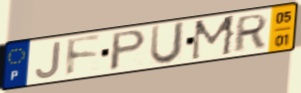F: (65, 34, 103, 79)
J: (33, 40, 63, 81)
M: (189, 13, 238, 63)
P: (107, 28, 148, 74)
R: (232, 12, 270, 54)
U: (147, 20, 187, 67)
